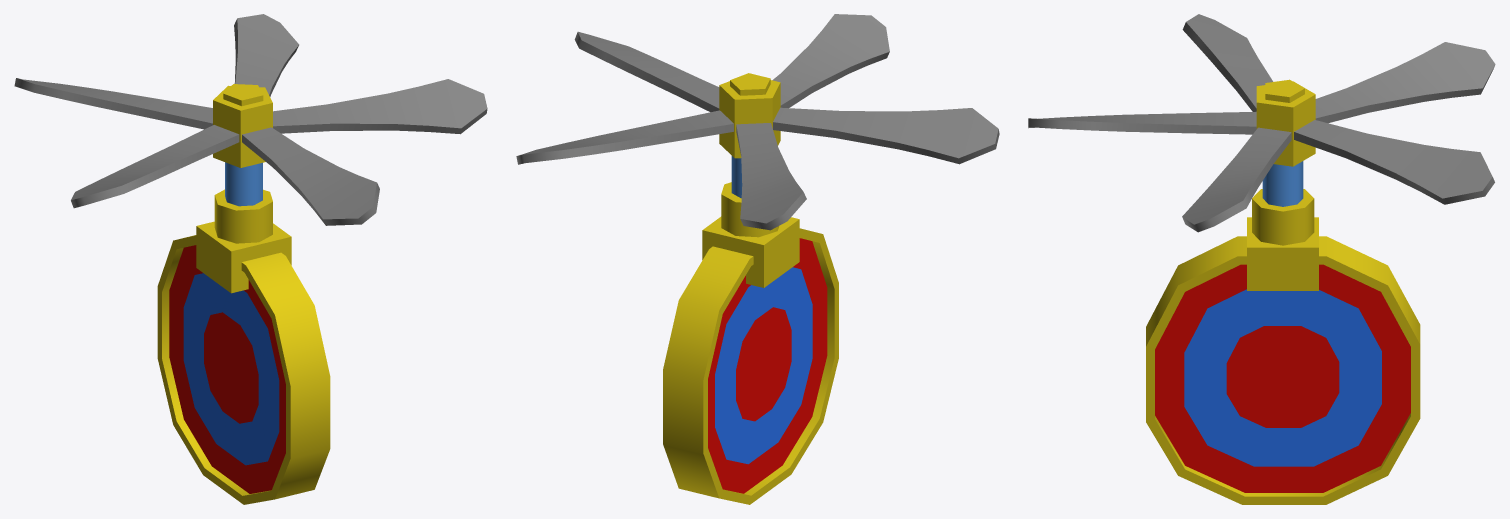
File: FlyingTarget 1.fbx
3 renders of one model, left to right at view 1: azimuth 30°, elevation 25°; view 2: azimuth 150°, elevation 25°; view 3: azimuth 270°, elevation 25°, orthographic. The views are drawn at different scales.
Visible parts, largest first — view 1: Cube.001, Cube.002; view 2: Cube.001, Cube.002; view 3: Cube.001, Cube.002.
Part boxes in pixels (box(x1,y1,x2,y2)): Cube.001: box(157, 162, 330, 504); Cube.002: box(14, 14, 487, 225); Cube.001: box(663, 156, 838, 504); Cube.002: box(516, 14, 999, 230); Cube.001: box(1146, 161, 1420, 504); Cube.002: box(1028, 14, 1495, 232).
Size of the model in its own units: 441 by 403 by 420.
